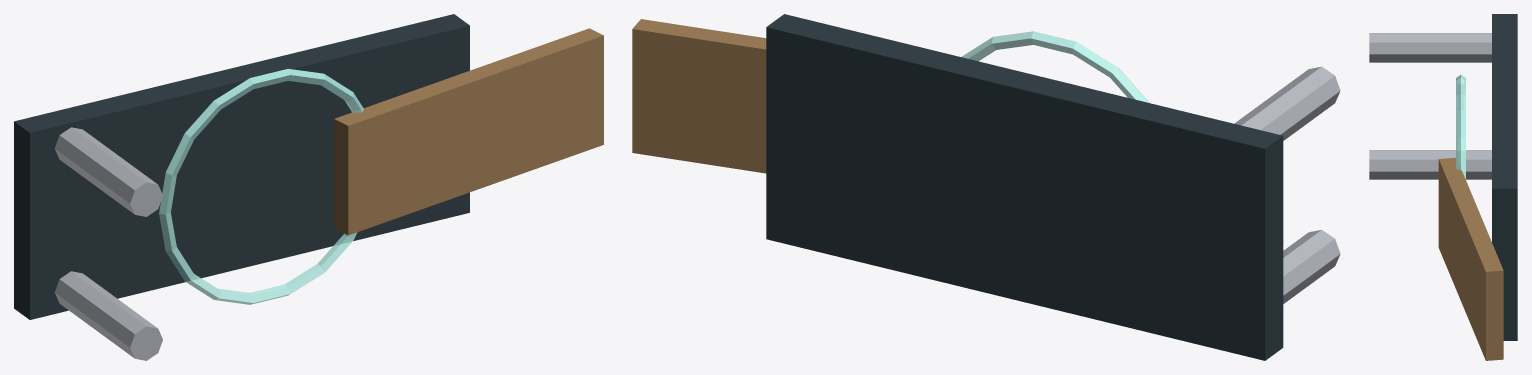
Rendered from 10_skyship_dock.glb.
3 renders of one model, left to right at view 1: azimuth 30°, elevation 25°; view 2: azimuth 150°, elevation 25°; view 3: azimuth 270°, elevation 25°, orthographic. The views are drawn at different scales.
Visible parts, largest first — view 1: dock_platform, boarding_ramp, dock_marker_ring, mooring_post_l, mooring_post_r; view 2: dock_platform, boarding_ramp, mooring_post_r, dock_marker_ring, mooring_post_l; view 3: boarding_ramp, dock_platform, mooring_post_r, mooring_post_l, dock_marker_ring.
Part boxes in pixels (box(x1,y1,x2,y2)): dock_platform: box(14, 14, 469, 319); boarding_ramp: box(334, 28, 603, 235); dock_marker_ring: box(159, 68, 363, 304); mooring_post_l: box(54, 271, 162, 360); mooring_post_r: box(54, 127, 162, 216); dock_platform: box(766, 14, 1283, 360); boarding_ramp: box(632, 19, 766, 173); mooring_post_r: box(1234, 66, 1340, 140); dock_marker_ring: box(961, 31, 1149, 102); mooring_post_l: box(1283, 230, 1340, 303); boarding_ramp: box(1438, 158, 1503, 360); dock_platform: box(1492, 14, 1517, 340); mooring_post_r: box(1369, 33, 1491, 62); mooring_post_l: box(1369, 150, 1491, 179); dock_marker_ring: box(1456, 74, 1465, 179).
Bounding box in the file's own units: 4.25 × 1.62 × 1.18.
